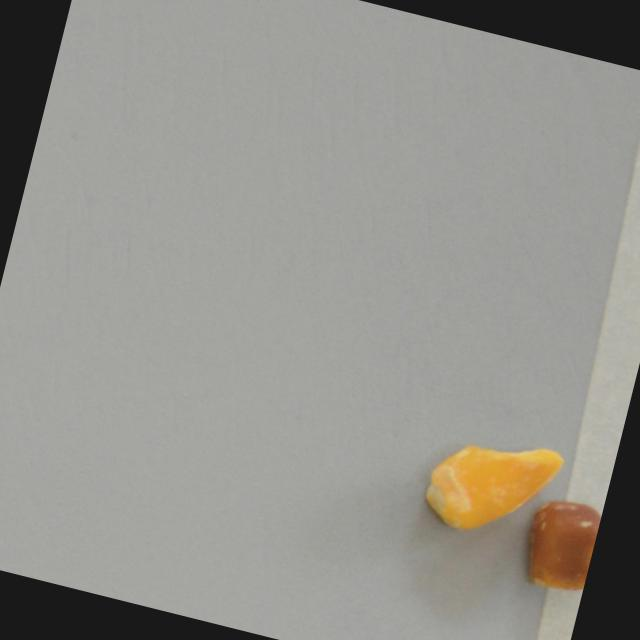dañado: (404, 416, 572, 558), (512, 486, 604, 602)
